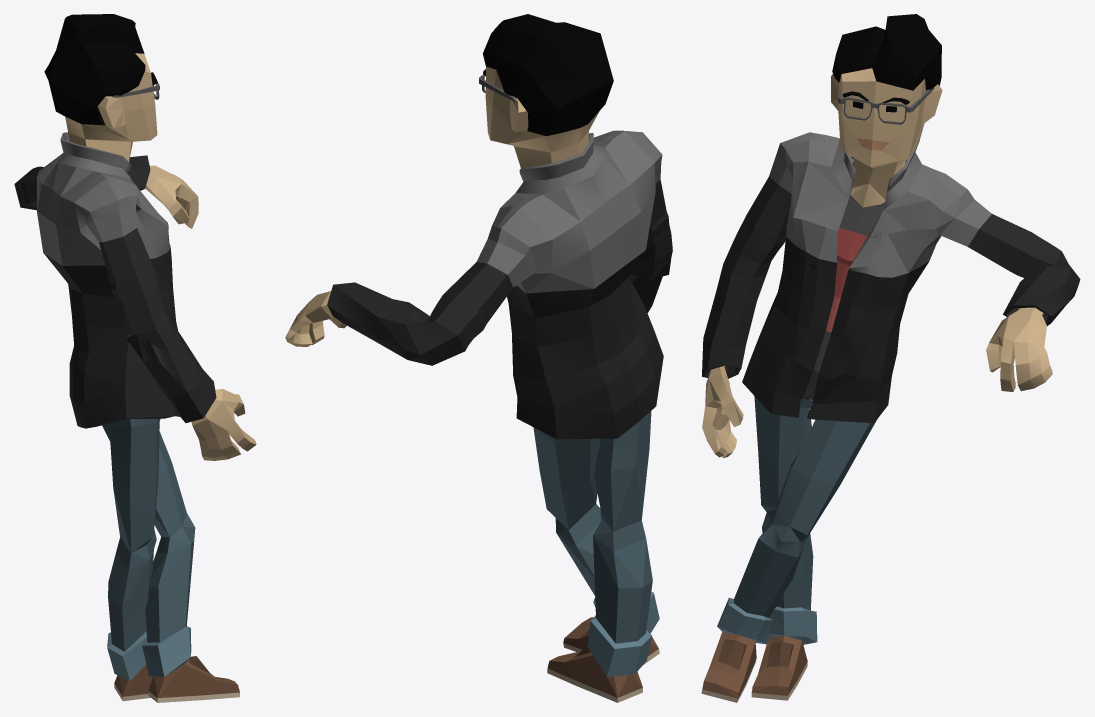
Rendered from jeff.fbx.
The picture shows the model from 3 angles, left to right: view 1: azimuth 30°, elevation 25°; view 2: azimuth 150°, elevation 25°; view 3: azimuth 270°, elevation 25°; orthographic projection. The views are drawn at different scales.
Visible parts, largest first — view 1: Brendan.024; view 2: Brendan.024; view 3: Brendan.024.
Boxes of the visible parts, x1,y1,x2,y2 form: Brendan.024: (14,14,256,702); Brendan.024: (285,14,672,702); Brendan.024: (701,14,1080,702).
Size of the model in its own units: 68.48 by 188 by 98.48.
Materials: 1 (1 with a texture image).
